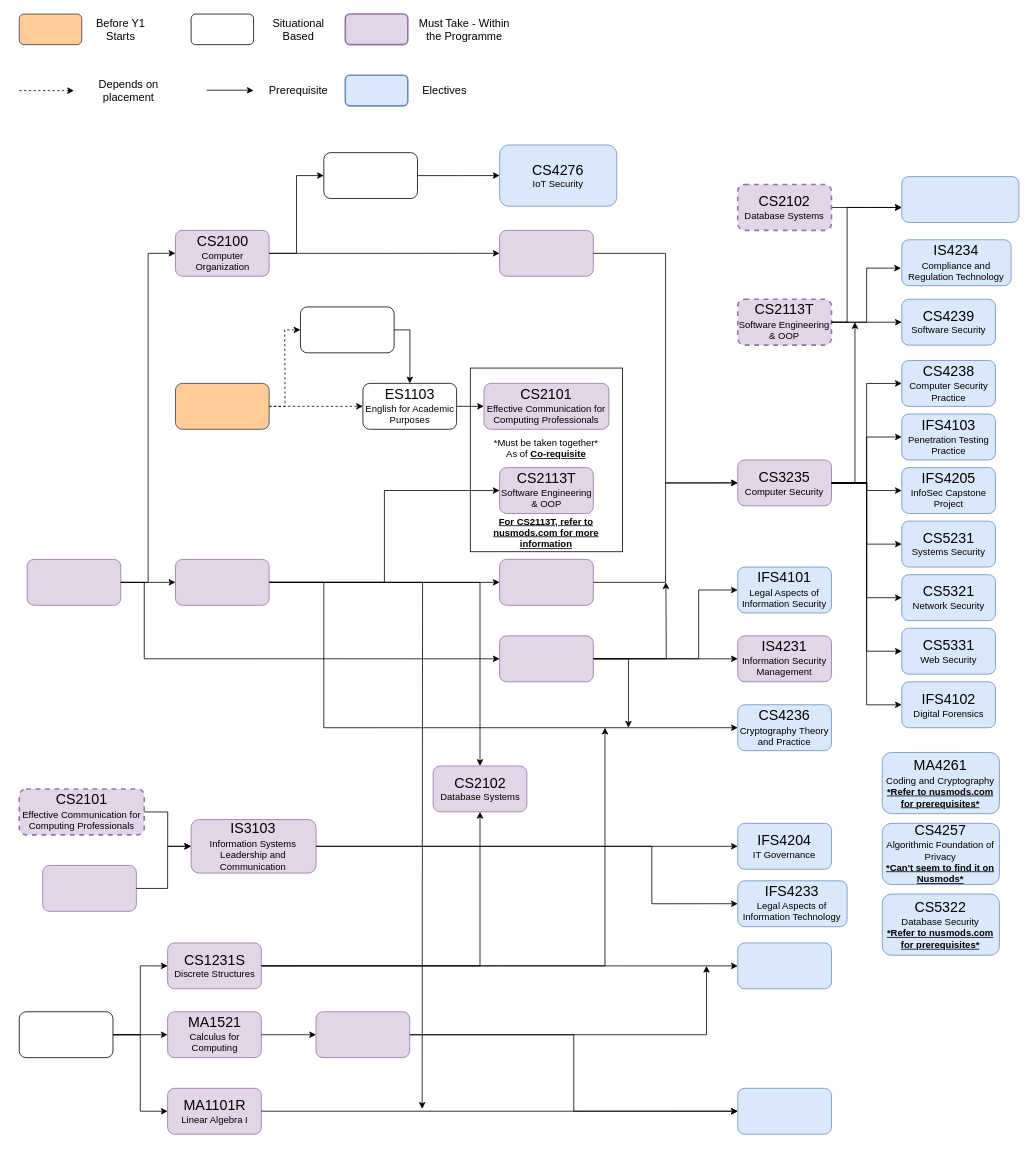
This 1033x1149 diagram has some shape labels left out. The box of each missing label's shape, as (x1, y1, x2, y2) in pixels:
CS1010 Programming Methodology: (26, 559, 121, 605)
CS2040C Data Structures and Algorithms: (175, 559, 269, 605)
CS2105 Introduction to Computer Network: (499, 559, 593, 605)
CS2106 Introduction to Operating Systems: (499, 230, 593, 276)
CS2107 Introduction to Information Security: (499, 635, 593, 682)
CS3236 Introduction to Information Theory: (737, 942, 831, 989)
CS3237 Introduction to IoT: (323, 152, 418, 199)
CS5332 Biometric Authentication: (737, 1088, 831, 1134)
ES1000 Foundation Academic English: (300, 306, 394, 353)
IS1103 Ethics in Computing: (42, 865, 136, 911)
IS4302 Blockchain and Distributed Ledger Technologies: (901, 176, 1019, 222)
MA1301 Introductory Math: (18, 1011, 113, 1058)
QET: (175, 383, 269, 429)
ST2334 Probability and Stats: (315, 1011, 410, 1058)
